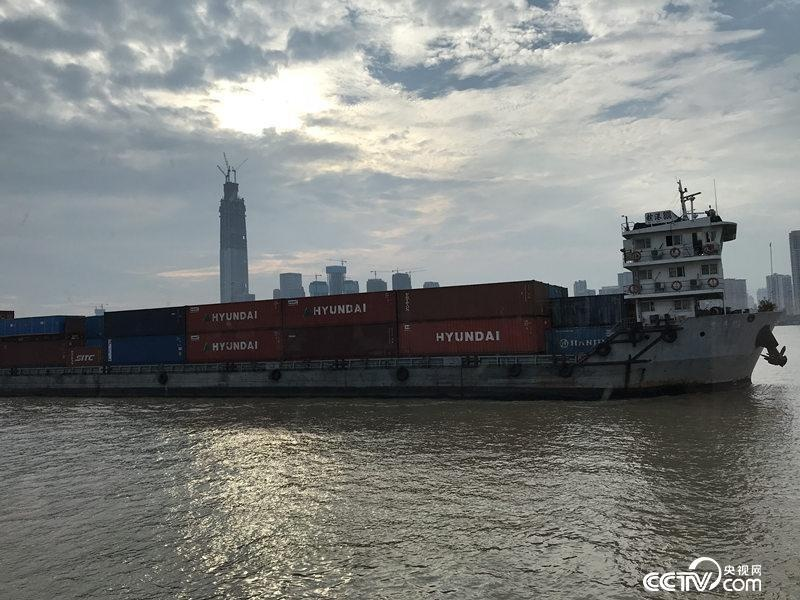Cargoship: (3, 164, 793, 400)
